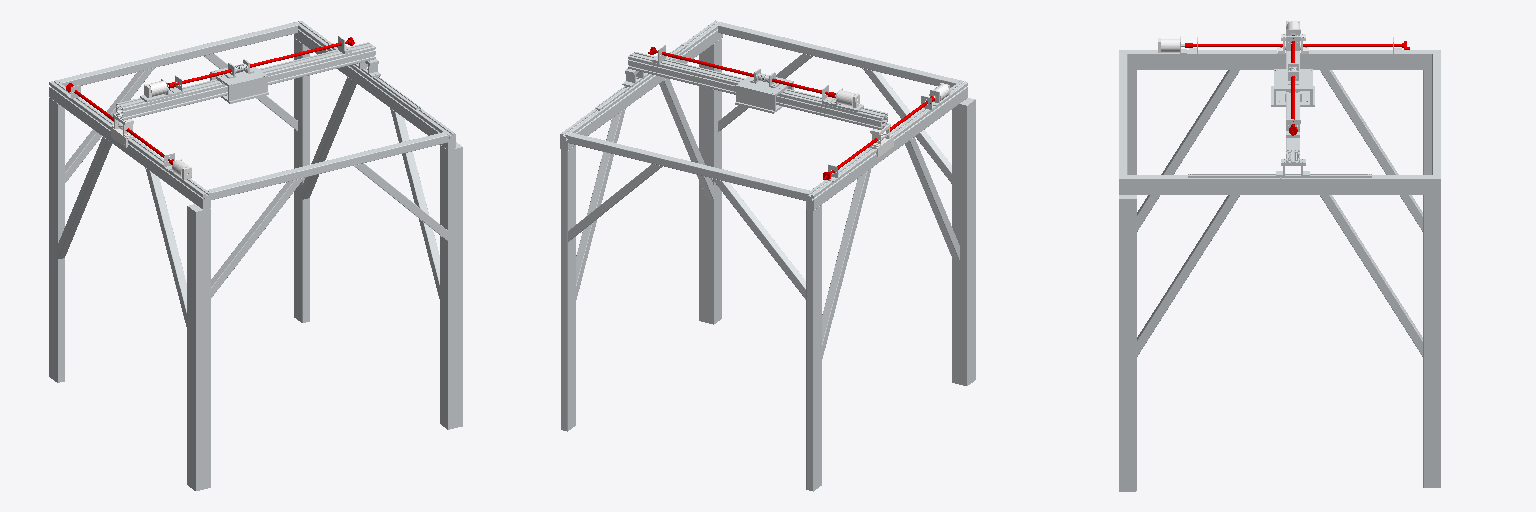
The robot description file, URDF, robot "gantry3":
<?xml version="1.0" encoding="utf-8" ?>
<!-- This URDF was automatically created by SolidWorks to URDF Exporter! Originally created by [author] ([email redacted]) 
     Commit Version: 1.5.1-0-g916b5db  Build Version: 1.5.7152.31018
     For more information, please see http://wiki.ros.org/sw_urdf_exporter -->
<robot name="gantry3">
    <link name="base_link">
        
<inertial>
            <origin xyz="1.1373 -1.2167 -0.13611" rpy="0 0 0" />
            <mass value="186.7" />
            <inertia ixx="40.848" ixy="-4.946E-10" ixz="2.713E-16" iyy="45.385" iyz="-2.7617E-15" izz="5.3511" />
        </inertial>

        <visual>
            <origin xyz="0 0 0" rpy="0 0 0" />
            <geometry>
                <mesh filename="package://gantry3/meshes/base_link.STL" />
            </geometry>
            <material name="">
                <color rgba="0.89804 0.91765 0.92941 1" />
            </material>
        </visual>
        <collision>
            <origin xyz="0 0 0" rpy="0 0 0" />
            <geometry>
                <mesh filename="package://gantry3/meshes/base_link.STL" />
            </geometry>
        </collision>
    </link>
    <link name="topbar">
        
<inertial>
            <origin xyz="1.963 -0.99517 0.64426" rpy="0 0 0" />
            <mass value="22.364" />
            <inertia ixx="6.0555" ixy="9.2337E-18" ixz="-0.00046628" iyy="0.02232" iyz="3.5889E-16" izz="6.0426" />
        </inertial>

        <visual>
            <origin xyz="0 0 0" rpy="0 0 0" />
            <geometry>
                <mesh filename="package://gantry3/meshes/topbar.STL" />
            </geometry>
            <material name="">
                <color rgba="0.89804 0.91765 0.92941 1" />
            </material>
        </visual>
        <collision>
            <origin xyz="0 0 0" rpy="0 0 0" />
            <geometry>
                <mesh filename="package://gantry3/meshes/topbar.STL" />
            </geometry>
        </collision>
    </link>
    <joint name="f_topbar" type="fixed">
        <origin xyz="0 0 0" rpy="0 0 0" />
        <parent link="base_link" />
        <child link="topbar" />
        <axis xyz="0 0 0" />
    </joint>
    <link name="bottombar">
        
<inertial>
            <origin xyz="0.31301 -0.99627 0.64521" rpy="0 0 0" />
            <mass value="22.642" />
            <inertia ixx="6.0557" ixy="8.3745E-18" ixz="-0.00046628" iyy="0.022609" iyz="1.1333E-05" izz="6.0427" />
        </inertial>

        <visual>
            <origin xyz="0 0 0" rpy="0 0 0" />
            <geometry>
                <mesh filename="package://gantry3/meshes/bottombar.STL" />
            </geometry>
            <material name="">
                <color rgba="0.89804 0.91765 0.92941 1" />
            </material>
        </visual>
        <collision>
            <origin xyz="0 0 0" rpy="0 0 0" />
            <geometry>
                <mesh filename="package://gantry3/meshes/bottombar.STL" />
            </geometry>
        </collision>
    </link>
    <joint name="f_bottombar" type="fixed">
        <origin xyz="0 0 0" rpy="0 0 0" />
        <parent link="base_link" />
        <child link="bottombar" />
        <axis xyz="0 0 0" />
    </joint>
    <link name="motor1">
        
<inertial>
            <origin xyz="0.31228 -1.6046 0.73599" rpy="0 0 0" />
            <mass value="0.51016" />
            <inertia ixx="0.00067277" ixy="1.7812E-20" ixz="-7.5893E-08" iyy="0.00037685" iyz="-9.6171E-08" izz="0.00067152" />
        </inertial>

        <visual>
            <origin xyz="0 0 0" rpy="0 0 0" />
            <geometry>
                <mesh filename="package://gantry3/meshes/motor1.STL" />
            </geometry>
            <material name="">
                <color rgba="1 1 1 1" />
            </material>
        </visual>
        <collision>
            <origin xyz="0 0 0" rpy="0 0 0" />
            <geometry>
                <mesh filename="package://gantry3/meshes/motor1.STL" />
            </geometry>
        </collision>
    </link>
    <joint name="f_motor1" type="fixed">
        <origin xyz="0 0 0" rpy="0 0 0" />
        <parent link="bottombar" />
        <child link="motor1" />
        <axis xyz="0 0 0" />
    </joint>
    <link name="rod1">
        
<inertial>
            <origin xyz="0.029371 -0.0099337 6.5141E-05" rpy="0 0 0" />
            <mass value="0.02709" />
            <inertia ixx="4.0541E-06" ixy="3.1885E-11" ixz="3.927E-11" iyy="4.5437E-05" iyz="1.3757E-10" izz="4.5437E-05" />
        </inertial>

        <visual>
            <origin xyz="0 0 0" rpy="0 0 0" />
            <geometry>
                <mesh filename="package://gantry3/meshes/rod1.STL" />
            </geometry>
            <material name="">
                <color rgba="1 0 0 1" />
            </material>
        </visual>
        <collision>
            <origin xyz="0 0 0" rpy="0 0 0" />
            <geometry>
                <mesh filename="package://gantry3/meshes/rod1.STL" />
            </geometry>
        </collision>
    </link>
    <joint name="c_rod1" type="continuous">
        <origin xyz="0.32123 -1.5227 0.73154" rpy="-2.681 0 1.5708" />
        <parent link="motor1" />
        <child link="rod1" />
        <axis xyz="1 0 0" />
        <limit effort="50" velocity="100" />
    </joint>
    <link name="slider">
        
<inertial>
            <origin xyz="0.30906 -0.92117 0.75747" rpy="0 0 0" />
            <mass value="1.8544" />
            <inertia ixx="0.0032532" ixy="2.0988E-07" ixz="-4.5186E-05" iyy="0.00081152" iyz="1.6779E-07" izz="0.003516" />
        </inertial>

        <visual>
            <origin xyz="0 0 0" rpy="0 0 0" />
            <geometry>
                <mesh filename="package://gantry3/meshes/slider.STL" />
            </geometry>
            <material name="">
                <color rgba="1 1 1 1" />
            </material>
        </visual>
        <collision>
            <origin xyz="0 0 0" rpy="0 0 0" />
            <geometry>
                <mesh filename="package://gantry3/meshes/slider.STL" />
            </geometry>
        </collision>
    </link>
    <joint name="p_slider" type="prismatic">
        <origin xyz="1.5227 0.037393 0.79809" rpy="-3.1416 0.46059 1.5708" />
        <parent link="rod1" />
        <child link="slider" />
        <axis xyz="0 1 0" />
        <limit lower="-0.4" upper="0.4" effort="50" velocity="0.05" />
    </joint>
    <link name="motion1">
        
<inertial>
            <origin xyz="1.2278 -0.92126 0.83296" rpy="0 0 0" />
            <mass value="10.436" />
            <inertia ixx="0.014954" ixy="3.5435E-07" ixz="1.4935E-05" iyy="1.893" iyz="8.4614E-06" izz="1.8953" />
        </inertial>

        <visual>
            <origin xyz="0 0 0" rpy="0 0 0" />
            <geometry>
                <mesh filename="package://gantry3/meshes/motion1.STL" />
            </geometry>
            <material name="">
                <color rgba="0.89804 0.91765 0.92941 1" />
            </material>
        </visual>
        <collision>
            <origin xyz="0 0 0" rpy="0 0 0" />
            <geometry>
                <mesh filename="package://gantry3/meshes/motion1.STL" />
            </geometry>
        </collision>
    </link>
    <joint name="f_motion1" type="fixed">
        <origin xyz="0 0 0" rpy="0 0 0" />
        <parent link="slider" />
        <child link="motion1" />
        <axis xyz="0 0 0" />
    </joint>
    <link name="motor2">
        
<inertial>
            <origin xyz="0.53509 -0.92118 0.92741" rpy="0 0 0" />
            <mass value="0.512" />
            <inertia ixx="0.00037705" ixy="9.6148E-08" ixz="-2.118E-09" iyy="0.00067285" iyz="4.946E-08" izz="0.00067164" />
        </inertial>

        <visual>
            <origin xyz="0 0 0" rpy="0 0 0" />
            <geometry>
                <mesh filename="package://gantry3/meshes/motor2.STL" />
            </geometry>
            <material name="">
                <color rgba="1 1 1 1" />
            </material>
        </visual>
        <collision>
            <origin xyz="0 0 0" rpy="0 0 0" />
            <geometry>
                <mesh filename="package://gantry3/meshes/motor2.STL" />
            </geometry>
        </collision>
    </link>
    <joint name="f_motor2" type="fixed">
        <origin xyz="0 0 0" rpy="0 0 0" />
        <parent link="motion1" />
        <child link="motor2" />
        <axis xyz="0 0 0" />
    </joint>
    <link name="rod2">
        
<inertial>
            <origin xyz="1.1761 -9.1529E-05 1.624E-05" rpy="0 0 0" />
            <mass value="0.02709" />
            <inertia ixx="4.0541E-06" ixy="4.8609E-11" ixz="-1.4106E-11" iyy="4.5437E-05" iyz="-3.8569E-11" izz="4.5437E-05" />
        </inertial>

        <visual>
            <origin xyz="0 0 0" rpy="0 0 0" />
            <geometry>
                <mesh filename="package://gantry3/meshes/rod2.STL" />
            </geometry>
            <material name="">
                <color rgba="1 0 0 1" />
            </material>
        </visual>
        <collision>
            <origin xyz="0 0 0" rpy="0 0 0" />
            <geometry>
                <mesh filename="package://gantry3/meshes/rod2.STL" />
            </geometry>
        </collision>
    </link>
    <joint name="c_rod2" type="continuous">
        <origin xyz="1.8228 -0.92118 0.92741" rpy="1.5708 0 3.1416" />
        <parent link="motor2" />
        <child link="rod2" />
        <axis xyz="1 0 0" />
        <limit effort="50" velocity="100" />
    </joint>
    <link name="motion2">
        
<inertial>
            <origin xyz="1.0911 -0.92118 0.84027" rpy="0 0 0" />
            <mass value="6.7714" />
            <inertia ixx="0.020382" ixy="-2.0988E-07" ixz="-1.7396E-07" iyy="0.037089" iyz="-4.352E-11" izz="0.054369" />
        </inertial>

        <visual>
            <origin xyz="0 0 0" rpy="0 0 0" />
            <geometry>
                <mesh filename="package://gantry3/meshes/motion2.STL" />
            </geometry>
            <material name="">
                <color rgba="0.89804 0.91765 0.92941 1" />
            </material>
        </visual>
        <collision>
            <origin xyz="0 0 0" rpy="0 0 0" />
            <geometry>
                <mesh filename="package://gantry3/meshes/motion2.STL" />
            </geometry>
        </collision>
    </link>
    <joint name="p_motion2" type="prismatic">
        <origin xyz="1.8228 -0.92741 0.92118" rpy="1.5708 0 3.1416" />
        <parent link="rod2" />
        <child link="motion2" />
        <axis xyz="1 0 0" />
        <limit lower="-0.4" upper="0.4" effort="50" velocity="0.05" />
    </joint>
    
<transmission name="trans_c_rod1">
        <type>transmission_interface/SimpleTransmission</type>
        <joint name="c_rod1">
            <hardwareInterface>hardware_interface/EffortJointInterface</hardwareInterface>
        </joint>
        <actuator name="c_rod1_motor">
            <hardwareInterface>hardware_interface/EffortJointInterface</hardwareInterface>
            <mechanicalReduction>1</mechanicalReduction>
        </actuator>
    </transmission>
    <transmission name="trans_p_slider">
        <type>transmission_interface/SimpleTransmission</type>
        <joint name="p_slider">
            <hardwareInterface>hardware_interface/PositionJointInterface</hardwareInterface>
        </joint>
        <actuator name="p_slider_motor">
            <hardwareInterface>hardware_interface/PositionJointInterface</hardwareInterface>
            <mechanicalReduction>1</mechanicalReduction>
        </actuator>
    </transmission>
    <transmission name="trans_c_rod2">
        <type>transmission_interface/SimpleTransmission</type>
        <joint name="c_rod2">
            <hardwareInterface>hardware_interface/EffortJointInterface</hardwareInterface>
        </joint>
        <actuator name="c_rod2_motor">
            <hardwareInterface>hardware_interface/EffortJointInterface</hardwareInterface>
            <mechanicalReduction>1</mechanicalReduction>
        </actuator>
    </transmission>
    <transmission name="trans_p_motion2">
        <type>transmission_interface/SimpleTransmission</type>
        <joint name="p_motion2">
            <hardwareInterface>hardware_interface/PositionJointInterface</hardwareInterface>
        </joint>
        <actuator name="p_motion2_motor">
            <hardwareInterface>hardware_interface/PositionJointInterface</hardwareInterface>
            <mechanicalReduction>1</mechanicalReduction>
        </actuator>
    </transmission>
    <gazebo>
        <plugin name="gazebo_ros_control" filename="libgazebo_ros_control.so">
            <robotNamespace>/</robotNamespace>
        </plugin>
    </gazebo>
</robot>

--- What the picture shows (computed from the rendered views, not written in the file) ---
The picture shows the robot from 3 angles, left to right: view 1: azimuth 30°, elevation 25°; view 2: azimuth 150°, elevation 25°; view 3: azimuth 270°, elevation 25°; orthographic projection.
Model gantry3 with 10 links and 9 joints (2 continuous, 2 prismatic, 5 fixed), rooted at base_link, posed every joint at zero.
Visible links, largest first — view 1: base_link, motion1, bottombar, topbar, motion2, rod2; view 2: base_link, motion1, bottombar, topbar, motion2, rod2; view 3: base_link, topbar, bottombar, motion1, motion2, rod1.
Link boxes in pixels (bbox=[...]): base_link: bbox=[49, 22, 462, 490]; motion1: bbox=[116, 36, 380, 120]; bottombar: bbox=[49, 80, 210, 209]; topbar: bbox=[294, 21, 455, 149]; motion2: bbox=[210, 59, 268, 103]; rod2: bbox=[168, 37, 354, 88]; base_link: bbox=[561, 22, 975, 491]; motion1: bbox=[622, 45, 887, 129]; bottombar: bbox=[806, 80, 967, 210]; topbar: bbox=[560, 20, 722, 150]; motion2: bbox=[735, 69, 793, 113]; rod2: bbox=[648, 47, 835, 97]; base_link: bbox=[1119, 54, 1440, 491]; topbar: bbox=[1119, 174, 1440, 194]; bottombar: bbox=[1119, 37, 1440, 69]; motion1: bbox=[1276, 21, 1309, 178]; motion2: bbox=[1271, 63, 1314, 106]; rod1: bbox=[1185, 41, 1409, 49].
Bounding box of the posed robot: 1.8 × 1.8 × 2.17 m (x, y, z).
Meshes: 10 distinct files referenced, 10 mesh visuals loaded (10 binary STL).